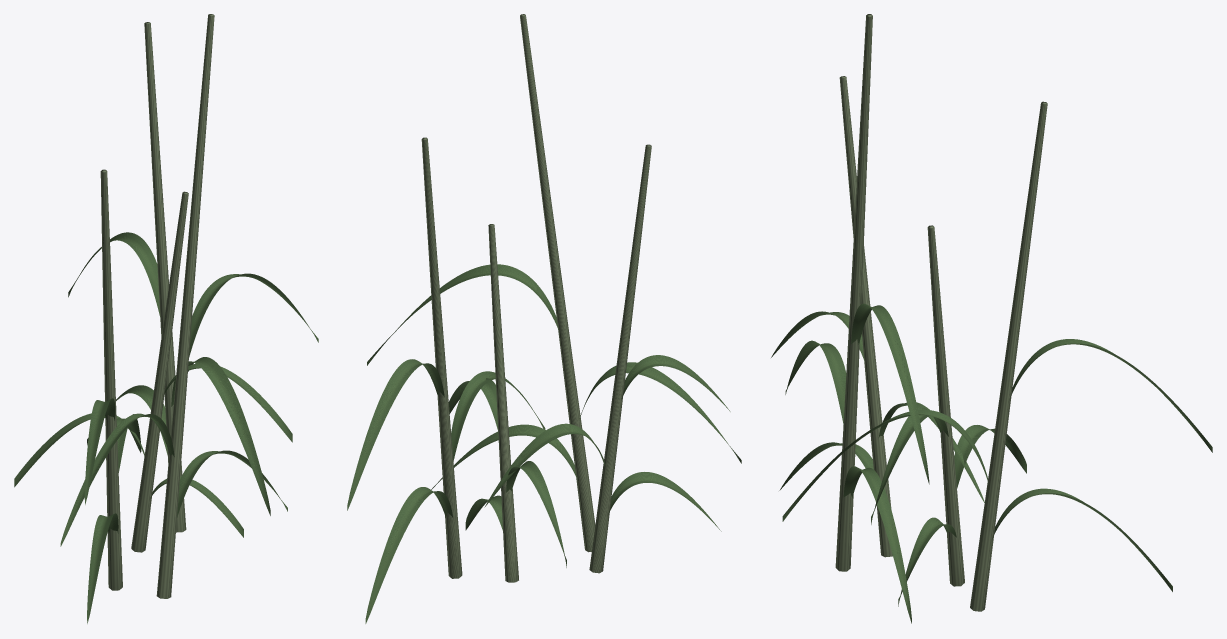
Rendered from saccharum-1-lite.glb.
The picture shows the model from 3 angles, left to right: view 1: azimuth 30°, elevation 25°; view 2: azimuth 150°, elevation 25°; view 3: azimuth 270°, elevation 25°; orthographic projection. The views are drawn at different scales.
Parts seen in each view (by area): view 1: stem, grass-leaf; view 2: stem, grass-leaf; view 3: stem, grass-leaf.
Boxes of the visible parts, x1,y1,x2,y2 form: stem: (100, 14, 214, 598); grass-leaf: (14, 232, 318, 623); stem: (421, 14, 651, 582); grass-leaf: (347, 264, 741, 623); stem: (835, 14, 1047, 611); grass-leaf: (771, 303, 1212, 623).
Bounding box in the file's own units: 0.1818 × 0.2973 × 0.2041.
Materials: 2 (2 with a texture image).
